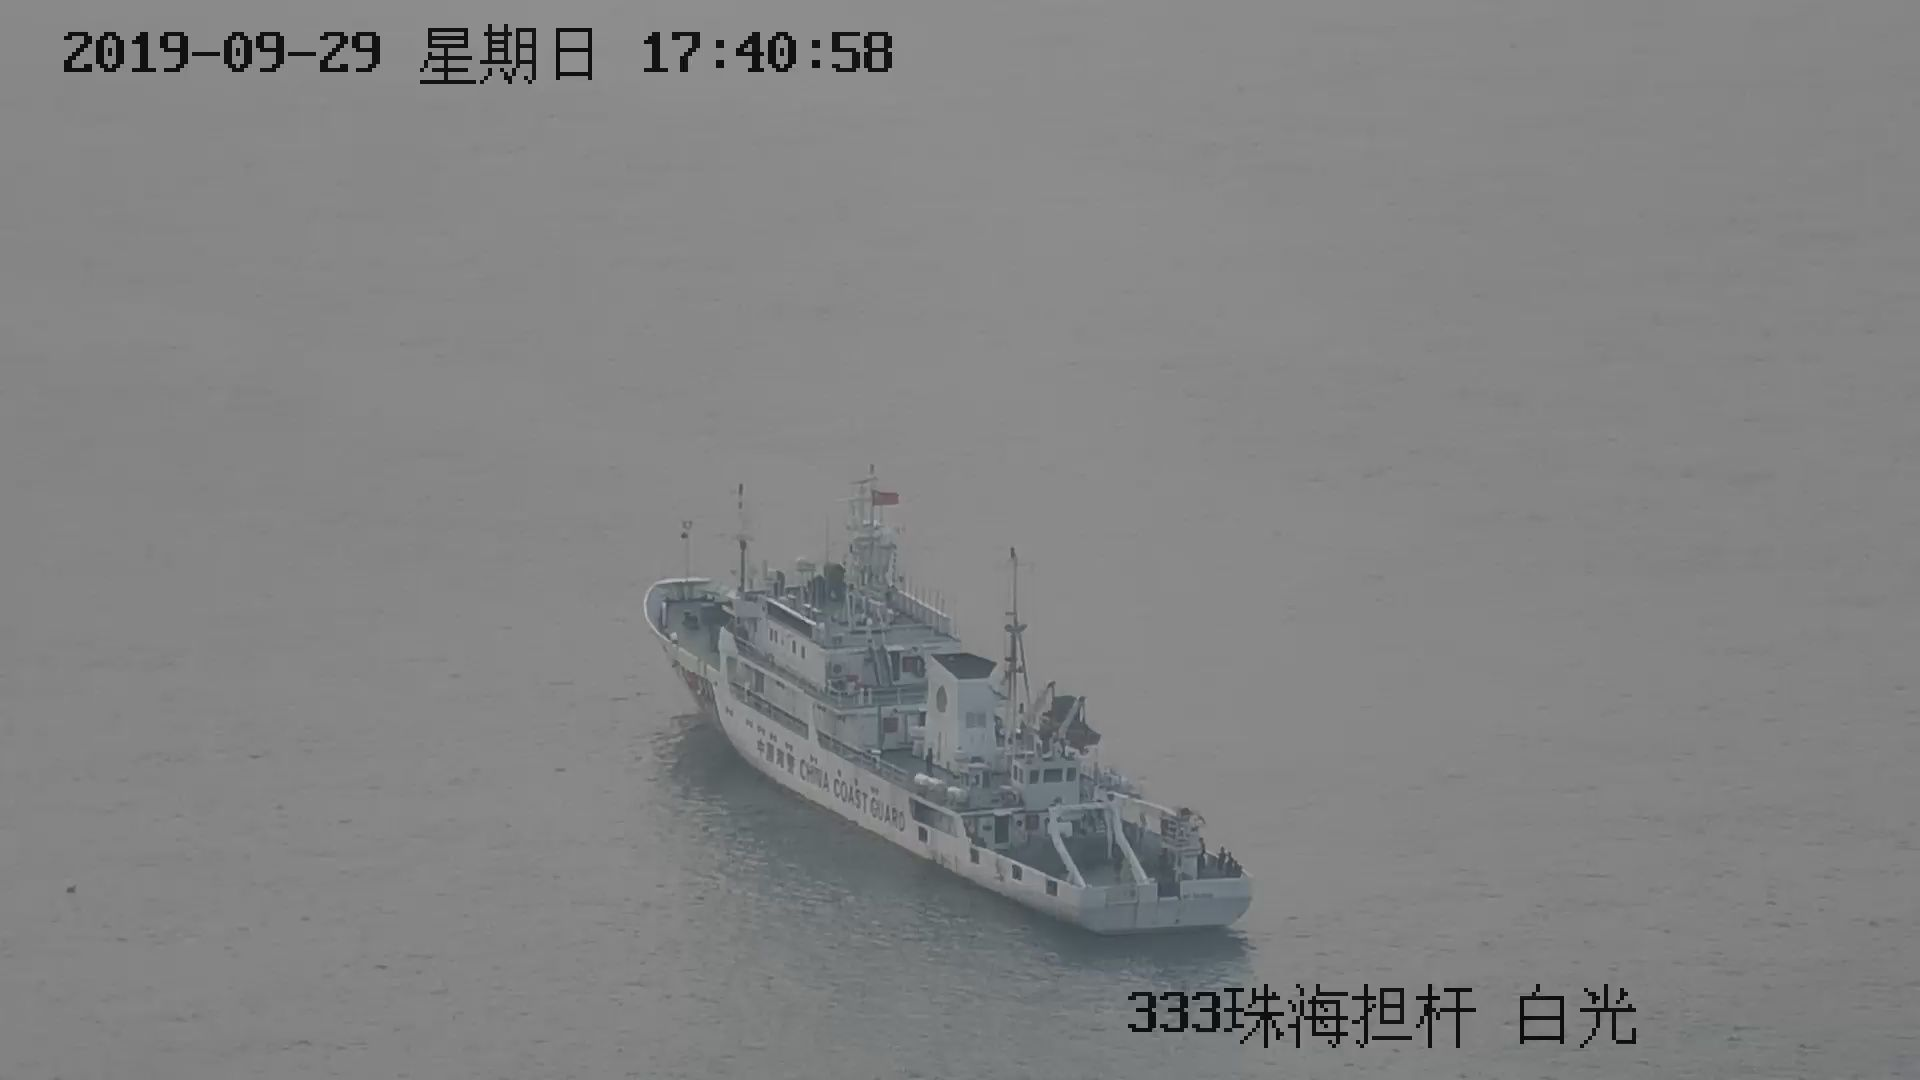ship: (641, 423, 1258, 951)
